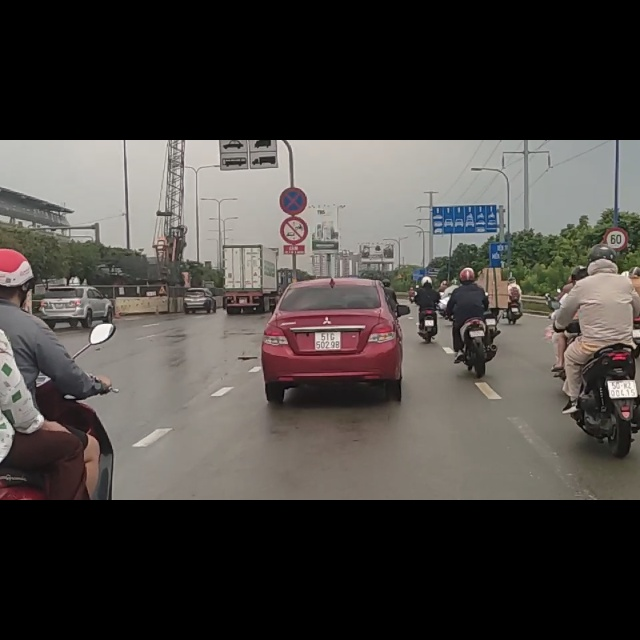bien_chi_dan: (280, 84, 307, 130), (602, 156, 629, 194)
